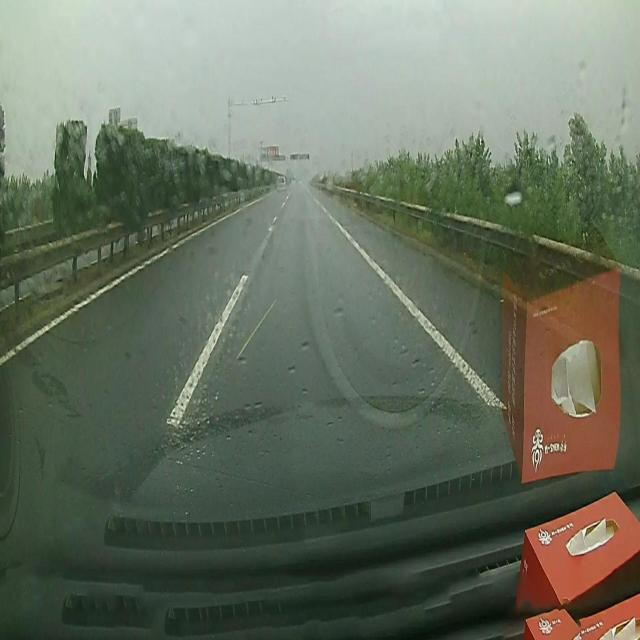car: (274, 174, 288, 190)
